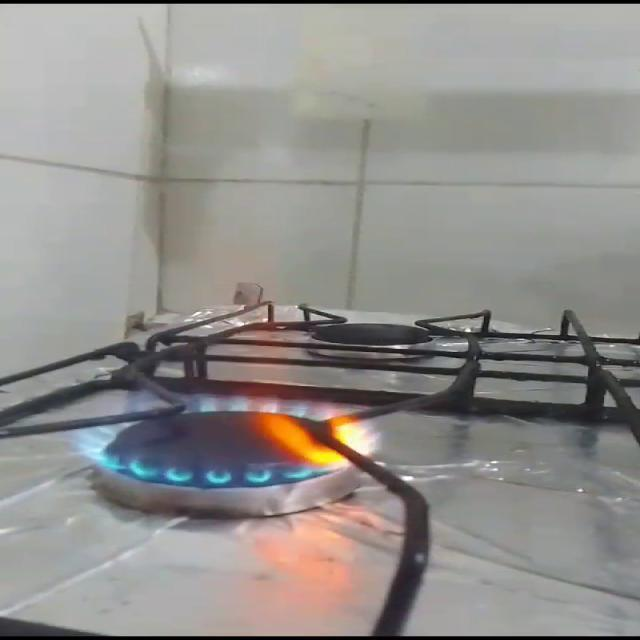fire: (62, 391, 390, 492)
